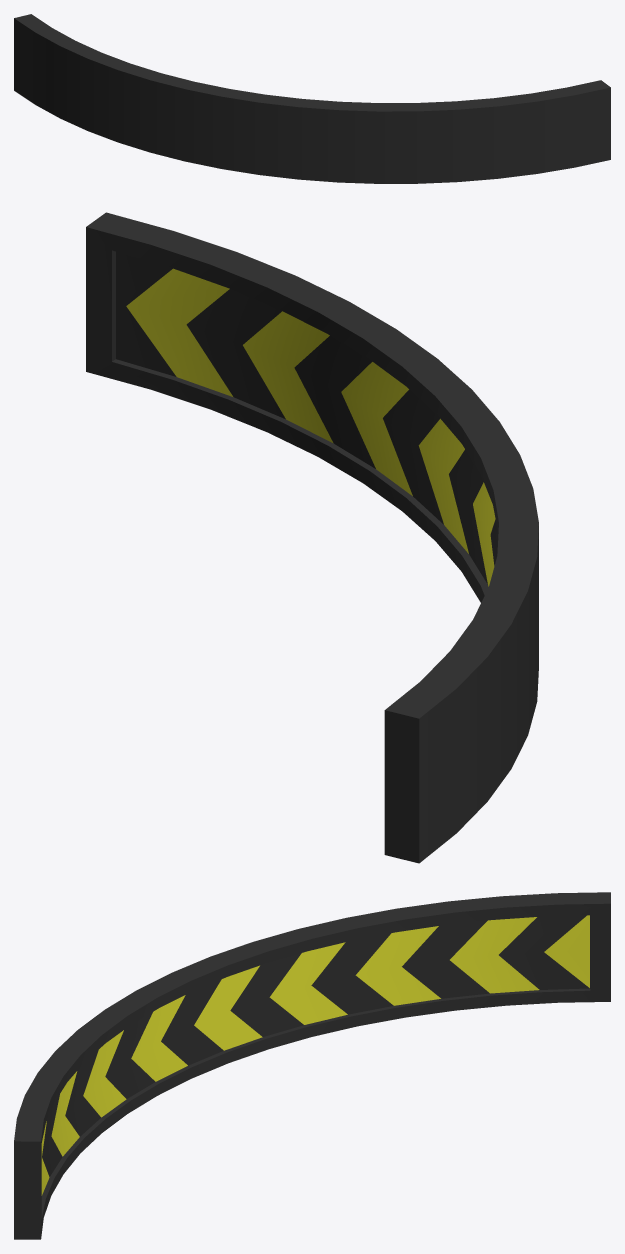
The model's file is TrackArrowPanelCurvedIn.fbx.
The picture shows the model from 3 angles, top to bottom: view 1: azimuth 30°, elevation 25°; view 2: azimuth 150°, elevation 25°; view 3: azimuth 270°, elevation 25°; orthographic projection. The views are drawn at different scales.
Visible parts, largest first — view 1: TrackArrowPanelCurvedIn; view 2: TrackArrowPanelCurvedIn; view 3: TrackArrowPanelCurvedIn.
Boxes of the visible parts, x1,y1,x2,y2 form: TrackArrowPanelCurvedIn: (14, 14, 610, 183); TrackArrowPanelCurvedIn: (86, 212, 538, 863); TrackArrowPanelCurvedIn: (14, 892, 610, 1239).
Size of the model in its own units: 21.78 by 22.04 by 4.
